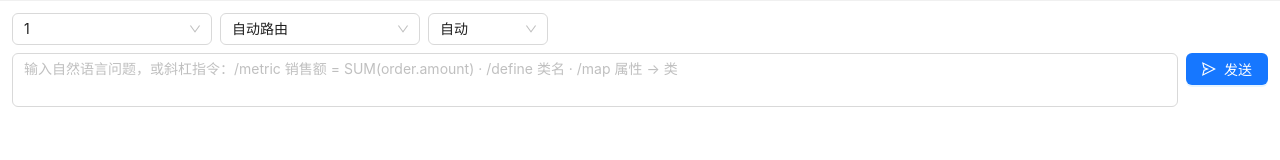
Test: ChatPanel 相似问题建议 › 后端返回重复 question 的多条建议 → 不产生 duplicate key 警告
Type "查" into the text box with placeholder "输入自然语言问题".
click(595, 80); type("查")  # box [12,53,1178,107]
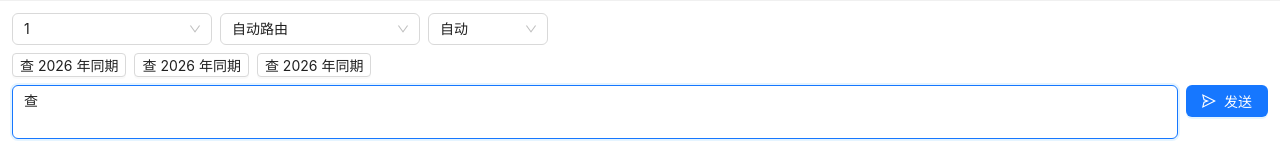
Now the number of buttons "查 2026 年同期" is 3, box [12,53,126,77]; [134,53,249,77]; [257,53,371,77]
